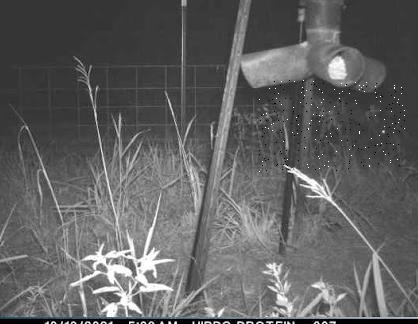Deer: (259, 80, 405, 172)
